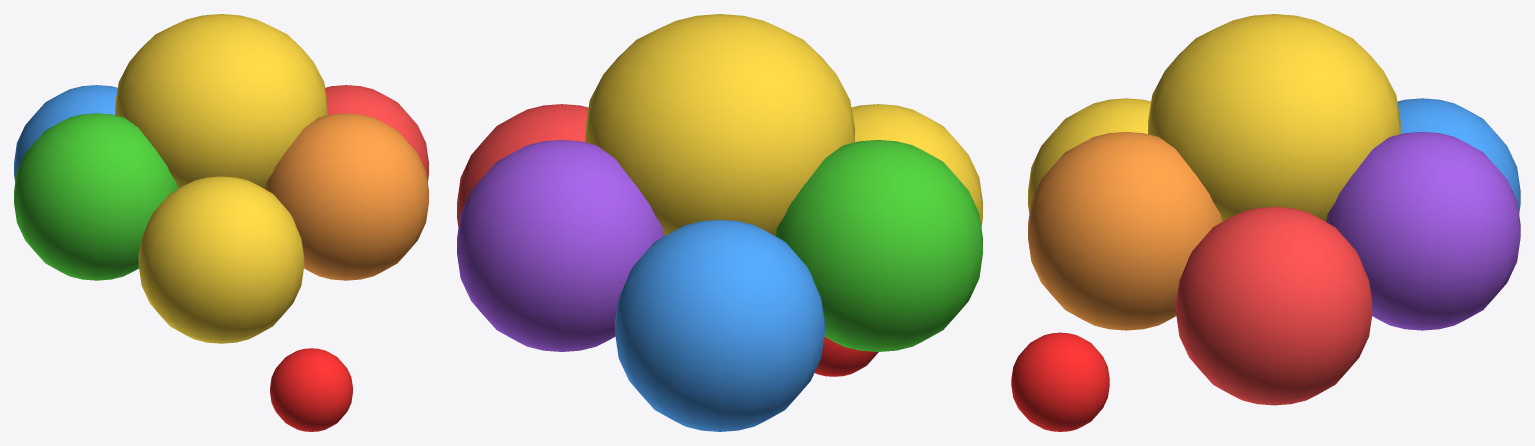
The model's file is head_fun_1.glb.
3 renders of one model, left to right at view 1: azimuth 30°, elevation 25°; view 2: azimuth 150°, elevation 25°; view 3: azimuth 270°, elevation 25°, orthographic. The views are drawn at different scales.
Bounding box in the file's own units: 0.38 × 0.31 × 0.3573.
